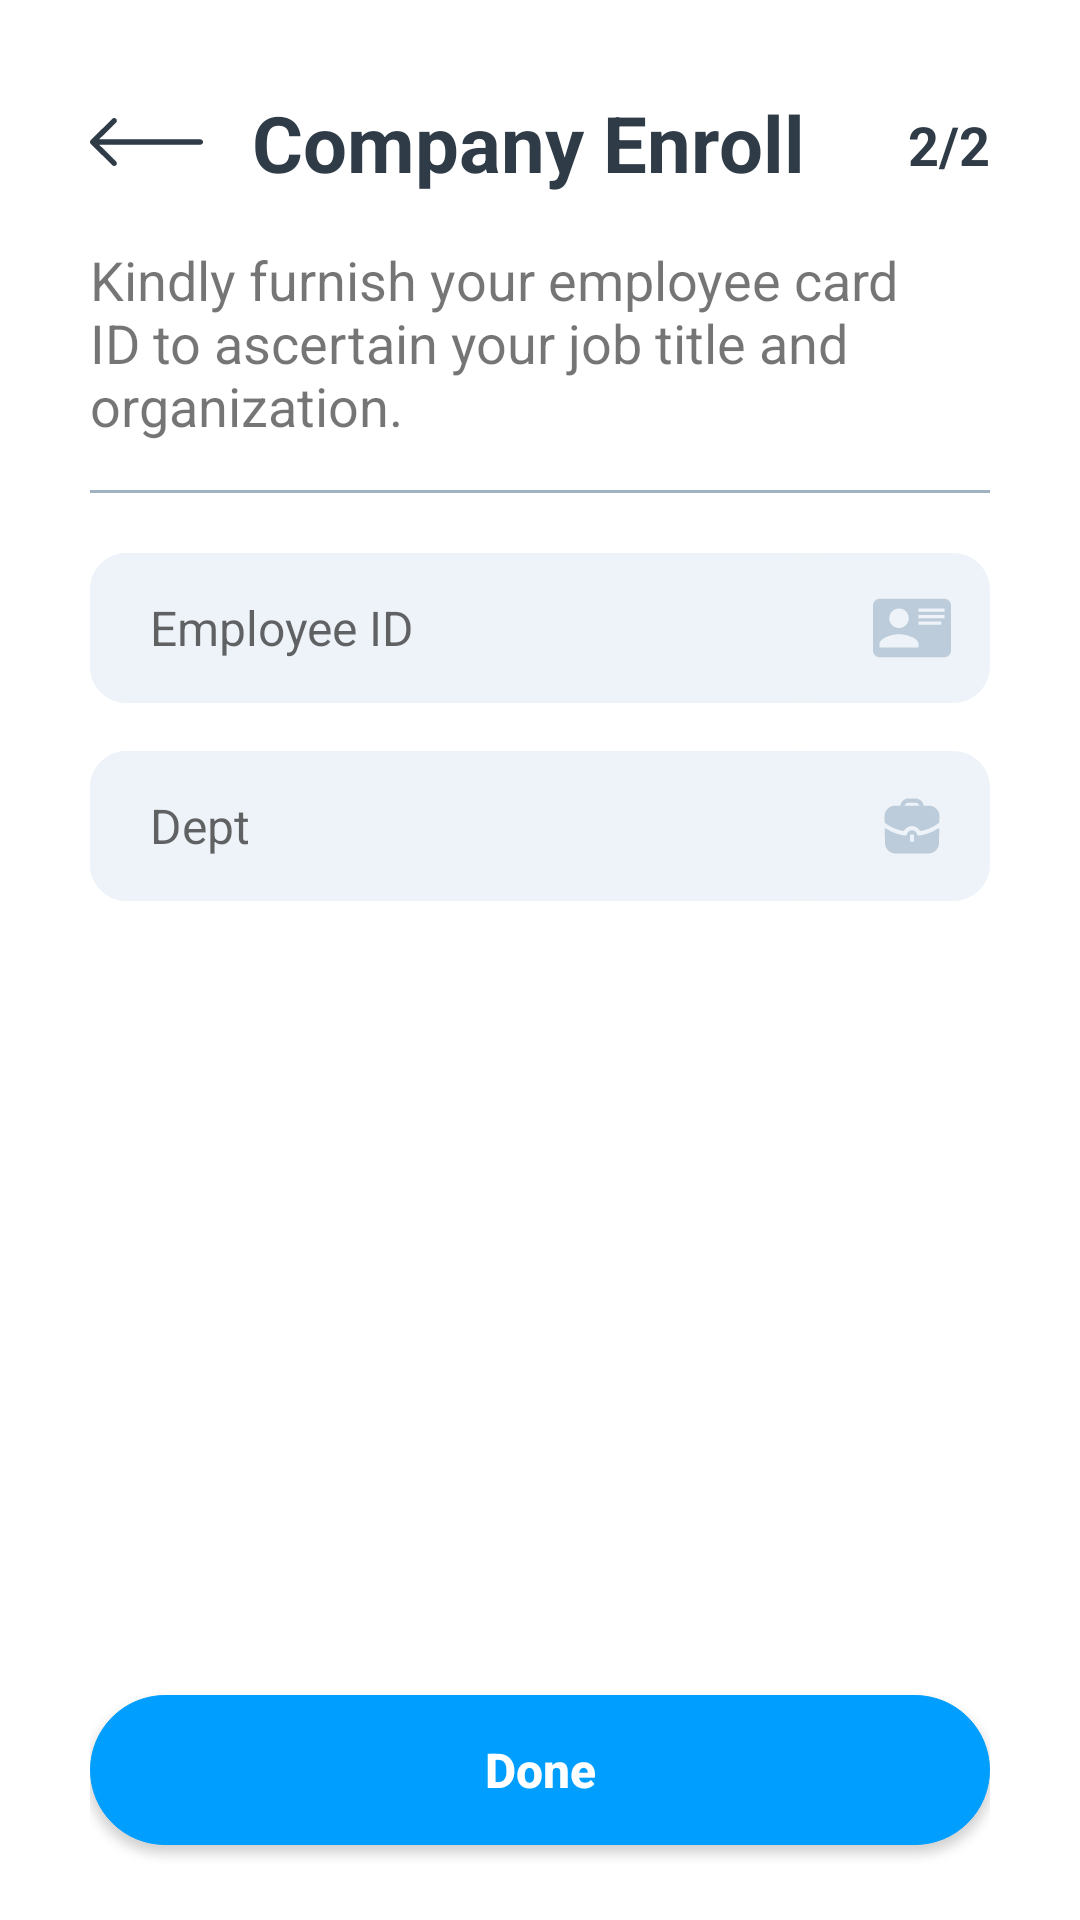

Where icons sit on this 1080x1920 app screen, as (x1=x1, y1=y1, x2=x2, y2=y2):
backward: (x1=90, y1=118, x2=203, y2=166)
card account: (x1=873, y1=598, x2=951, y2=658)
